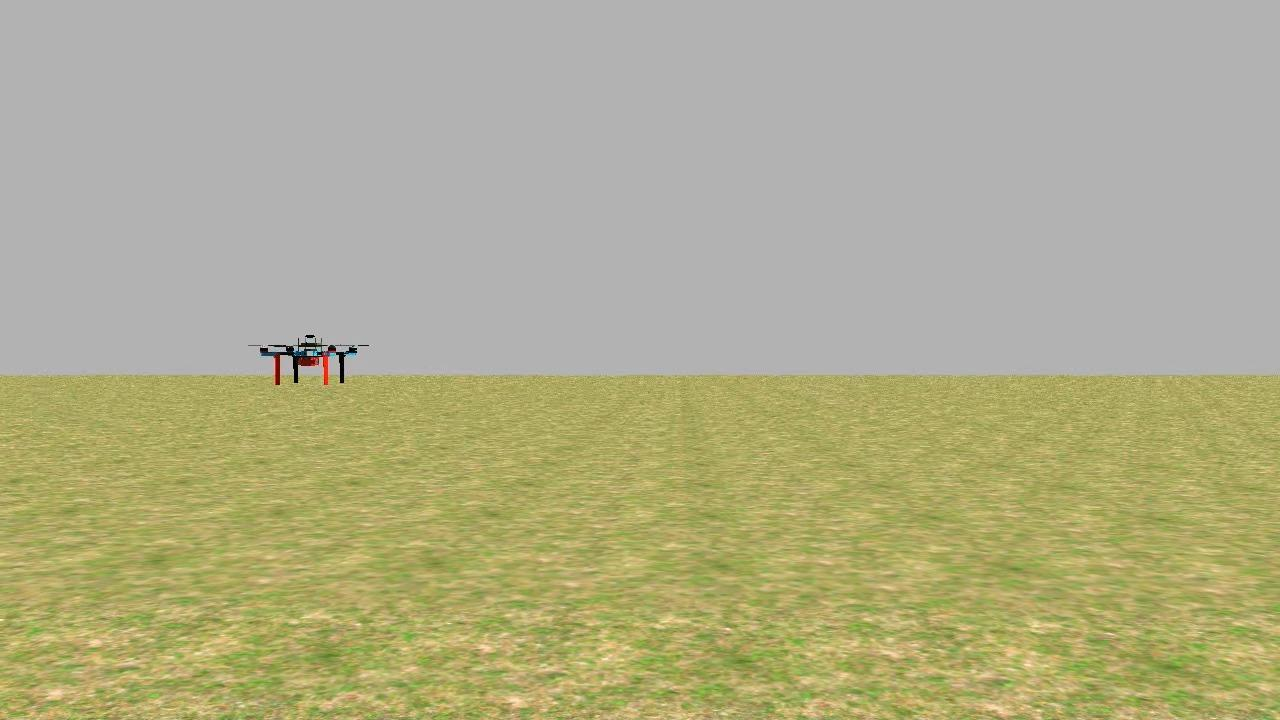UAV: (257, 334, 362, 395)
